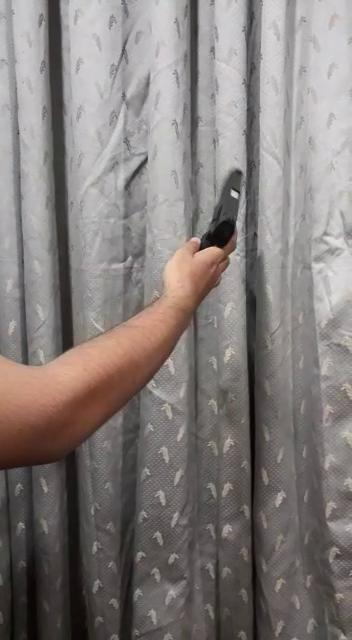weapon: (187, 162, 250, 265)
